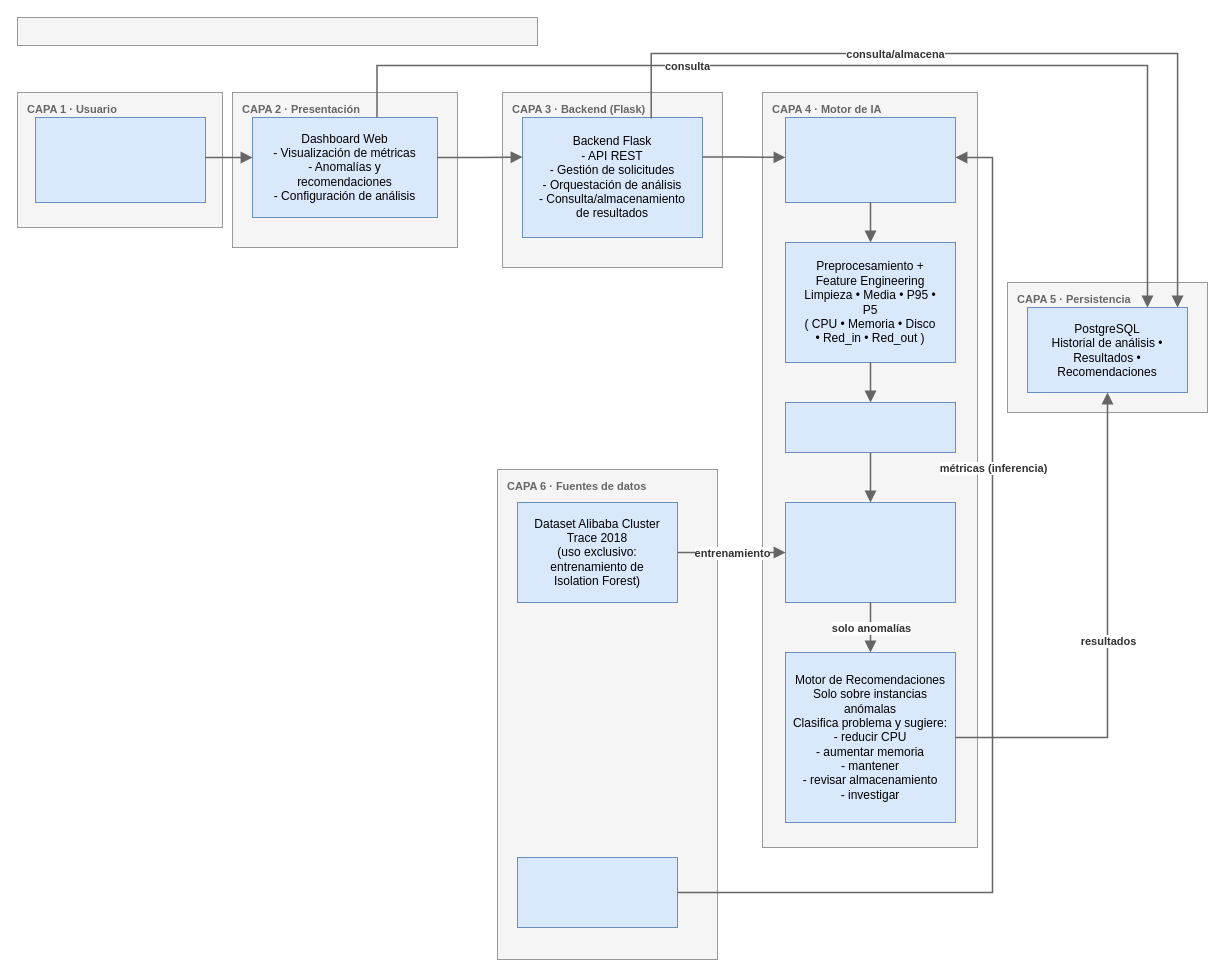
Image size: 1225x977. Some labels were removed from this diagram. The shapes that lost their labels are listed below. From the top down, each one's centre as x and y in pixels, then its label:
point (277, 31): Arquitectura de Plataforma ML para Optimización de Infraestructura Cloud
point (120, 159): Usuario: Administrador/Arquitecto Cloud Acceso: Navegador web
point (870, 159): Recolección de métricas ( CPU • Memoria • Disco • Red )
point (870, 427): Normalización StandardScaler
point (870, 552): Modelo Isolation Forest Detecta instancias con comportamiento anómalo
point (597, 892): Huawei Cloud ECS • EVS • VPC • Cloud Eye
